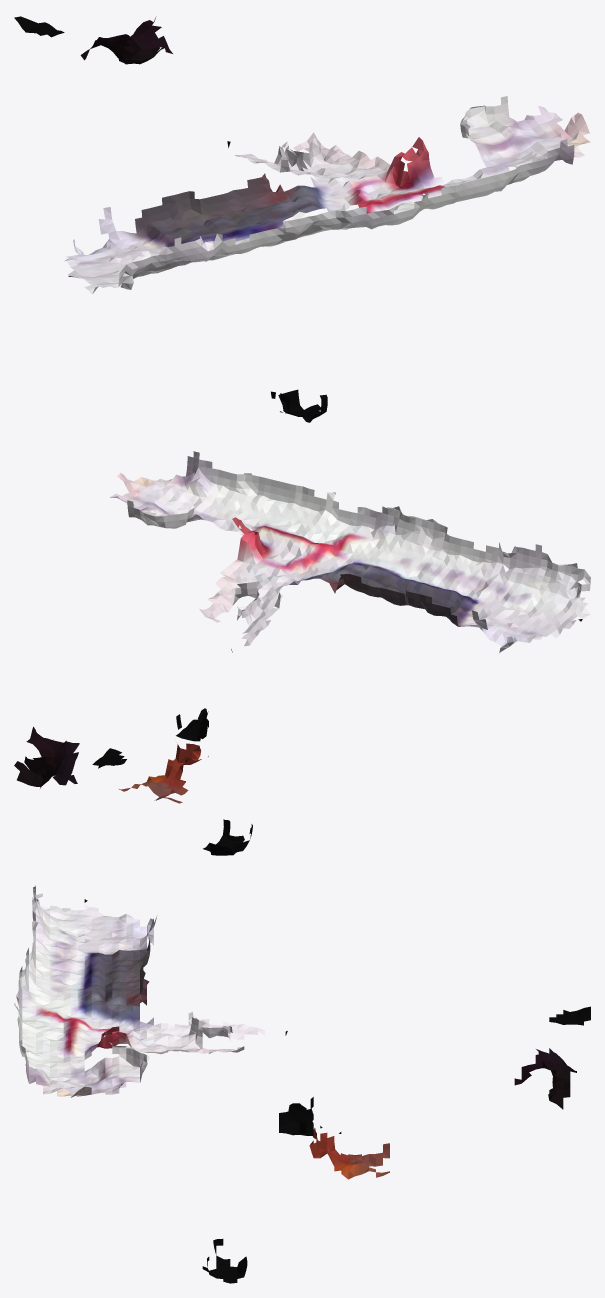
The model's file is gun.obj.
3 renders of one model, top to bottom at view 1: azimuth 30°, elevation 25°; view 2: azimuth 150°, elevation 25°; view 3: azimuth 270°, elevation 25°, orthographic. The views are drawn at different scales.
Size of the model in its own units: 11.53 by 6.96 by 12.79.
1 material, 1 textured.
